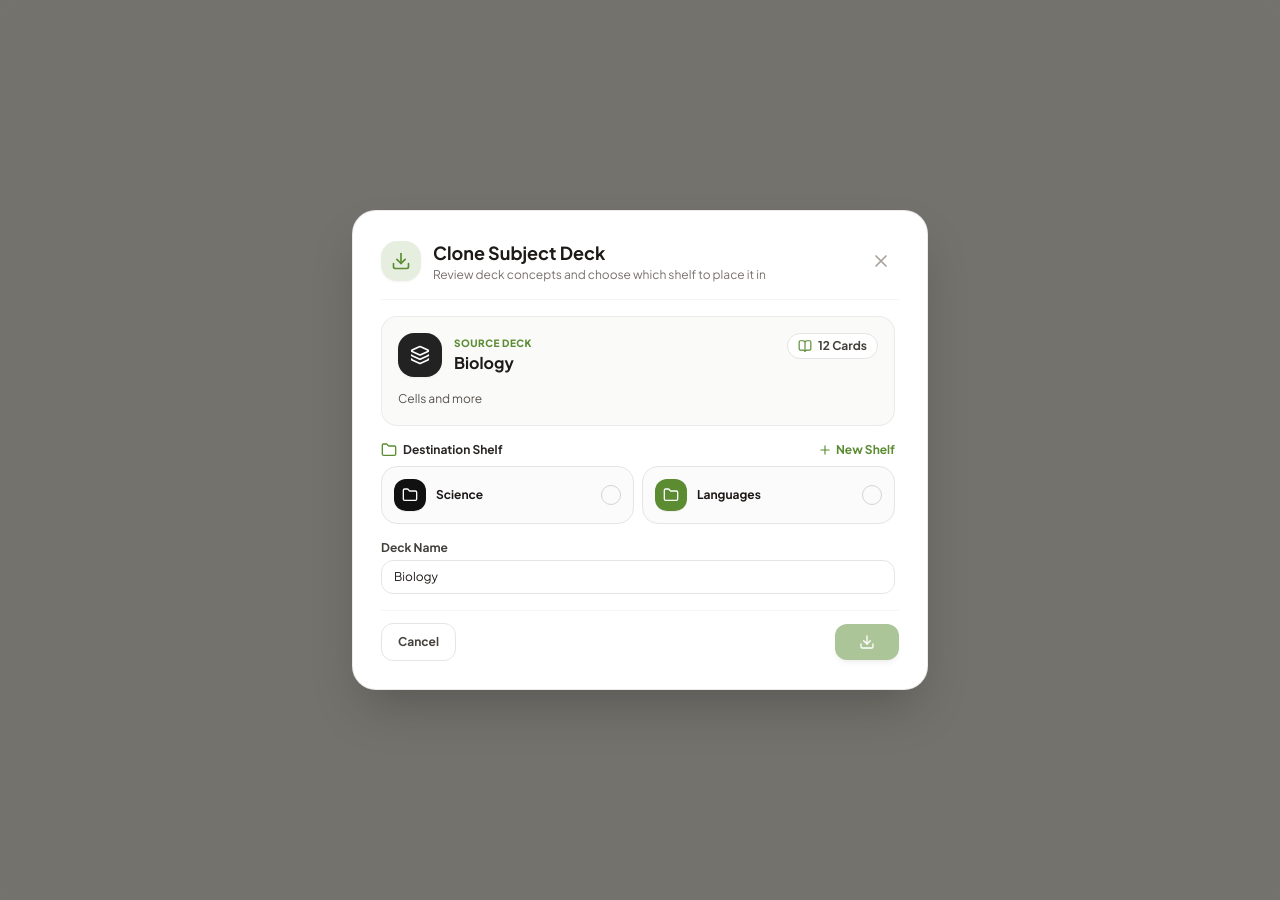
CloneSubjectModal › uses fallback messages for empty failure and thrown errors
Click the button with test id "clone-shelf-sh1" at (508,495), box [381,466,634,524]
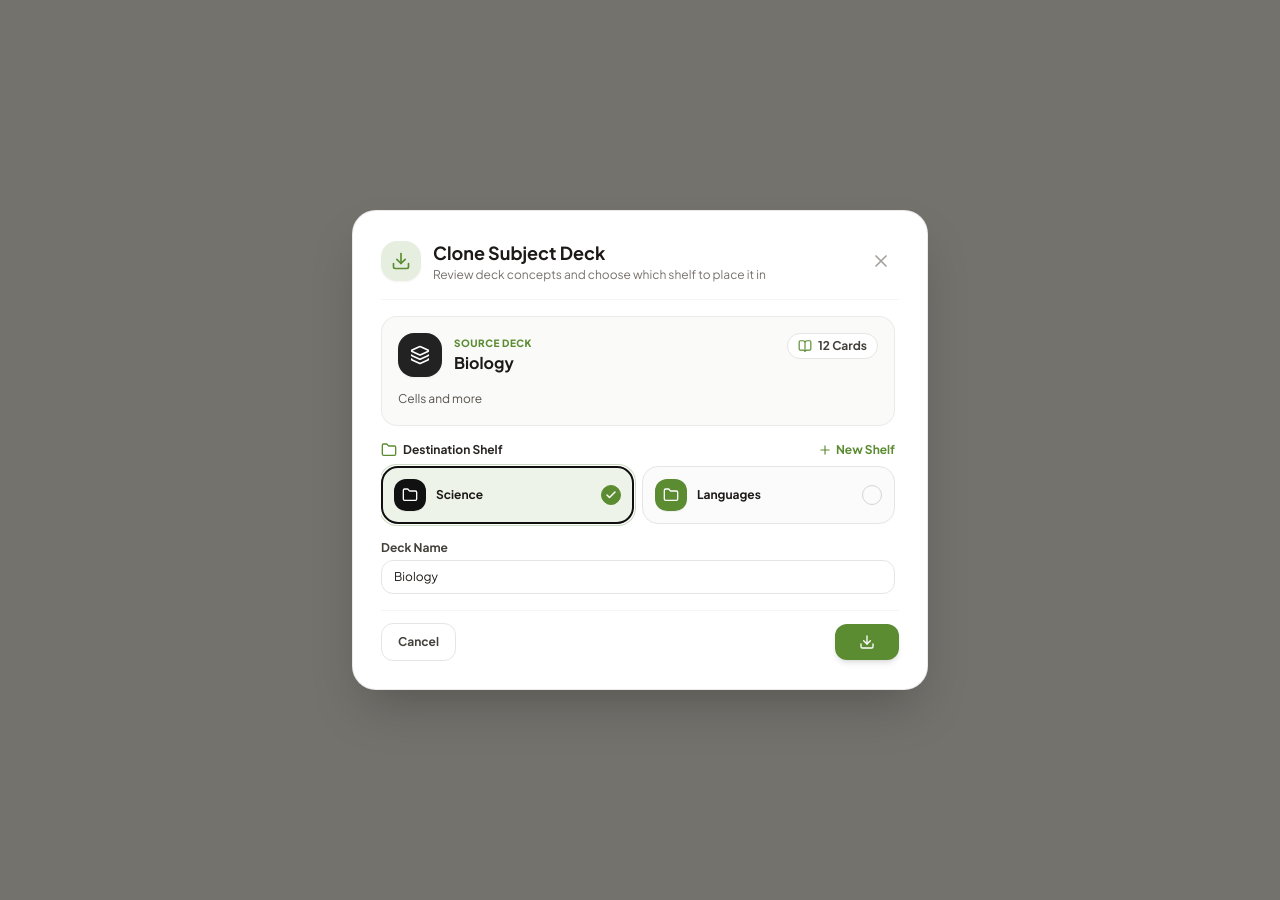
Click the button with test id "btn-confirm-clone" at (867,642), box [835,624,899,660]
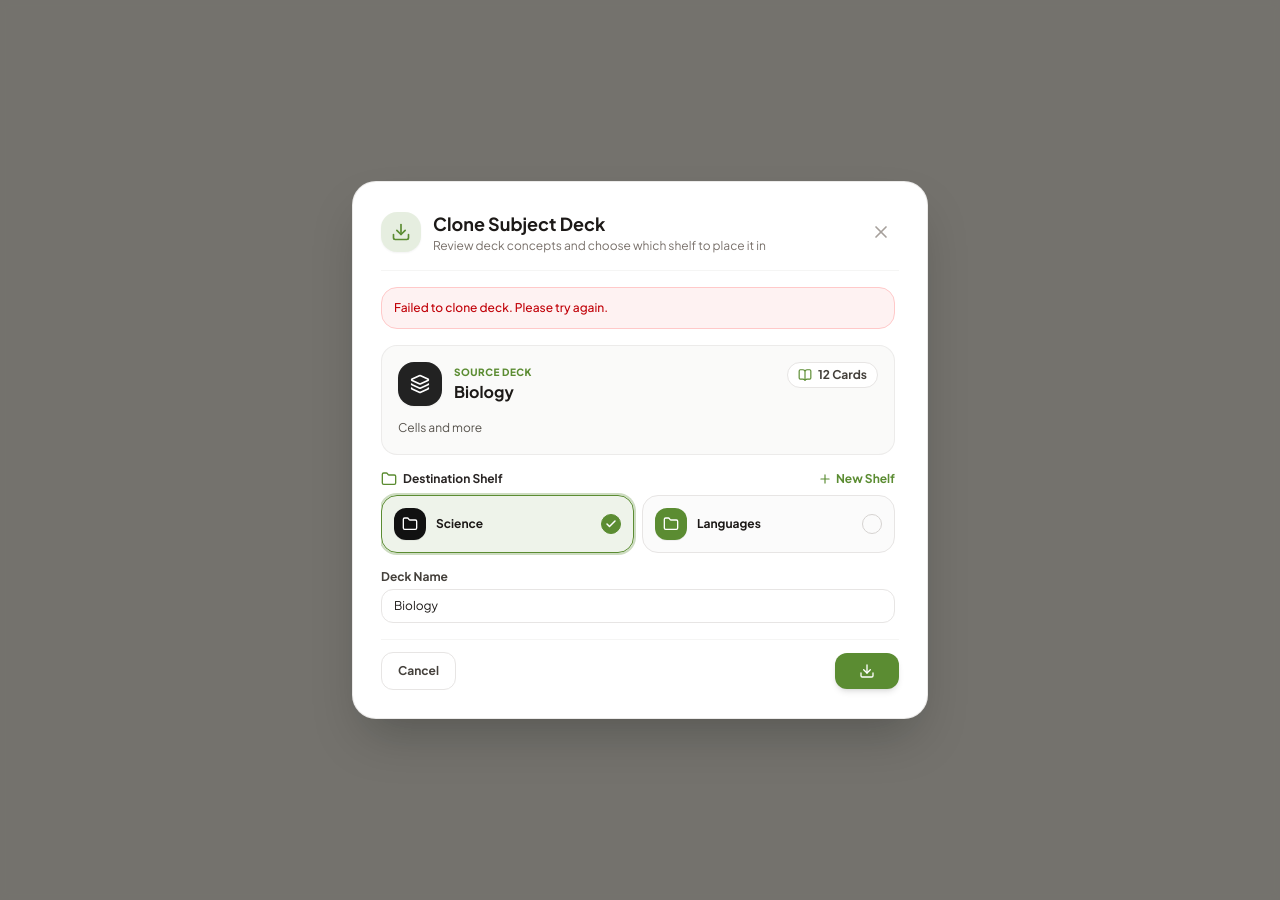
Now the text "Failed to clone deck. Please try again." is shown, box [381,287,895,329]
Click the button with test id "btn-confirm-clone" at (867,671), box [835,653,899,689]
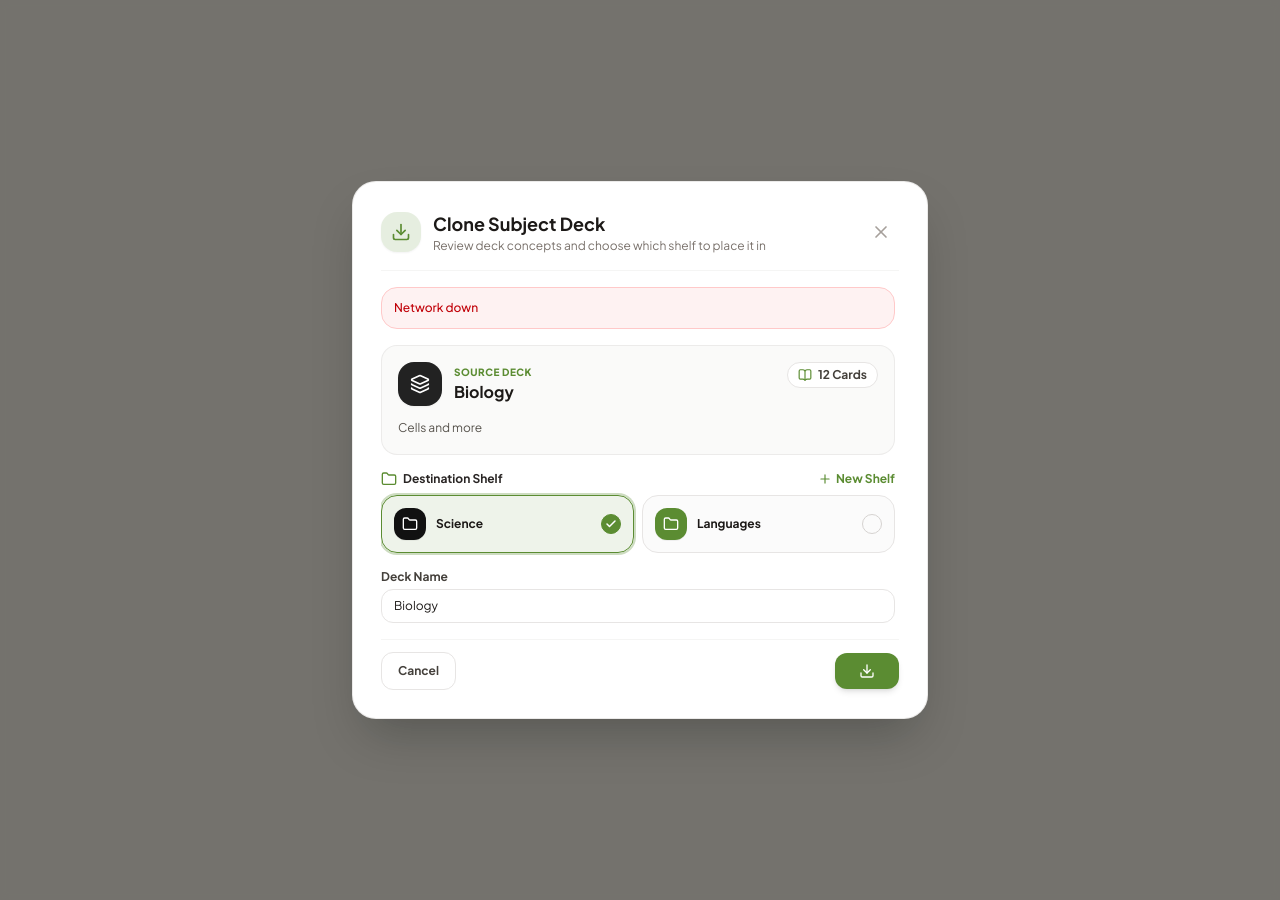
Now the text "Network down" is shown, box [381,287,895,329]
Click the button with test id "btn-confirm-clone" at (867,671), box [835,653,899,689]
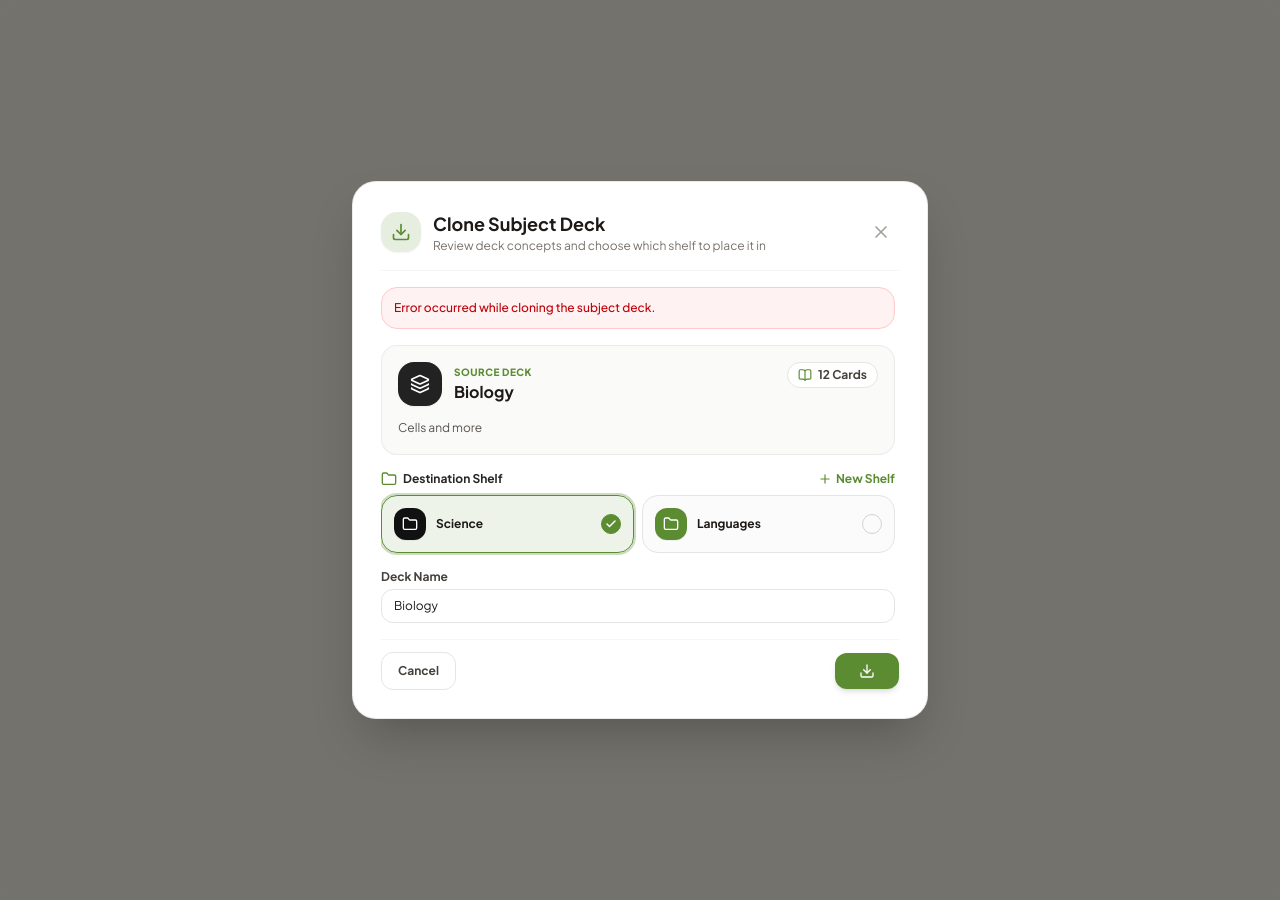
Now the text "Error occurred while cloning the subject deck." is shown, box [381,287,895,329]
